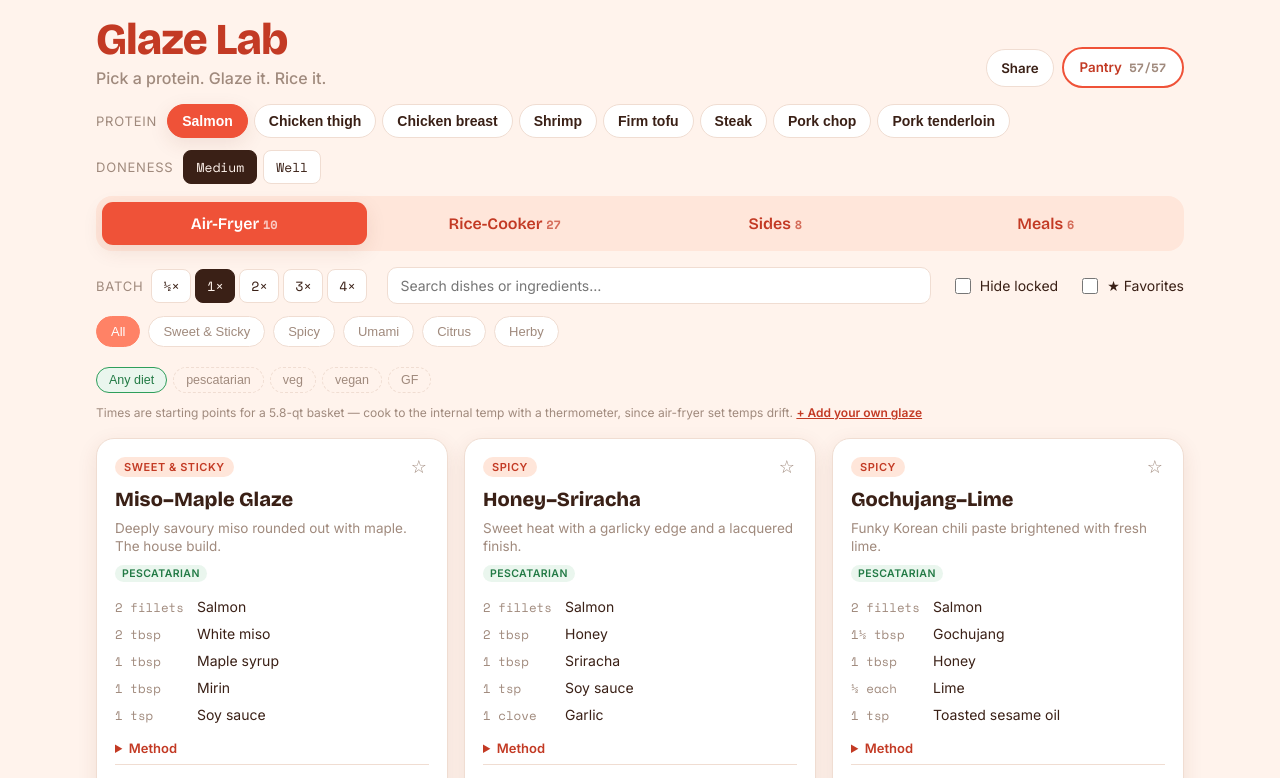
Glaze Lab app › shows air-fryer and steamed sides in Sides mode
Step 1. Click the tab "Sides 8" → [775, 224], box [643,202,908,245]
(page scrolled)
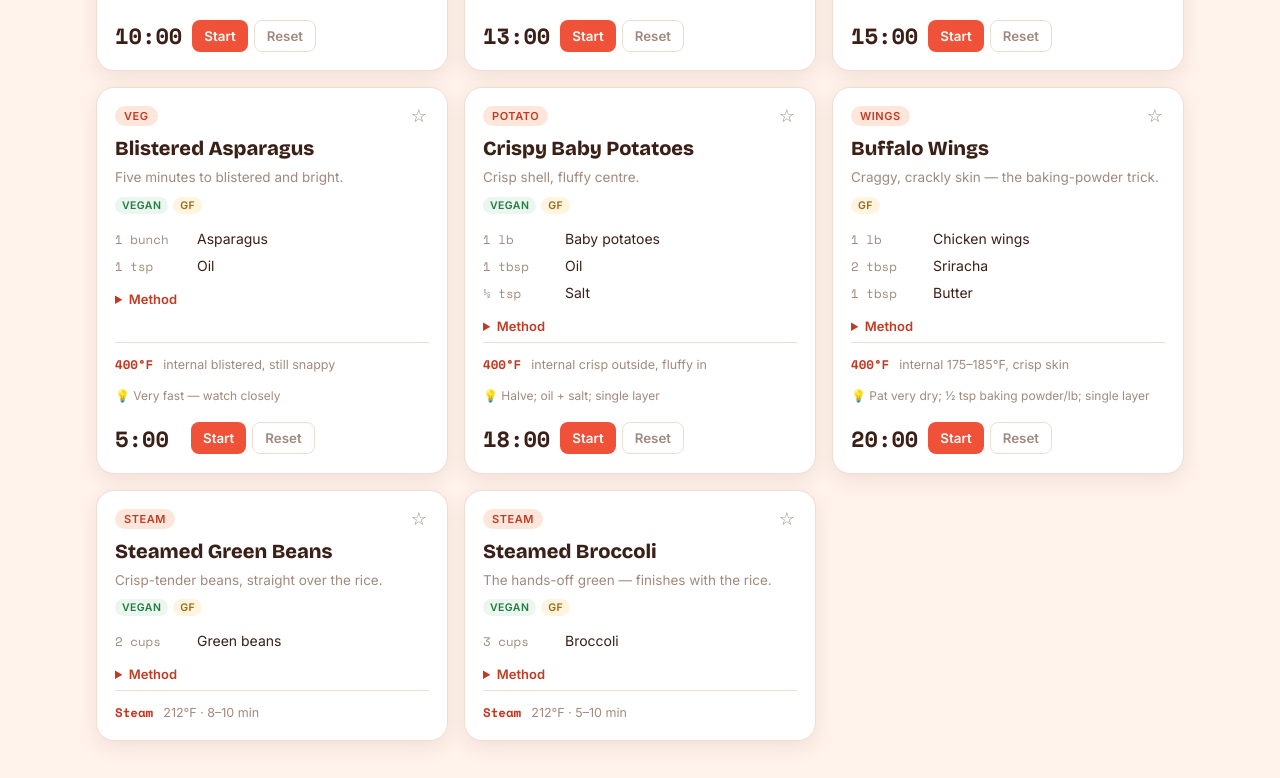
Check: the text "Air-Fryer Fries" shows "13:00", box [483,19,550,52]
Check: the text "Steamed Green Beans" is shown, box [124,512,166,526]
Check: the text "Protein" is gone
